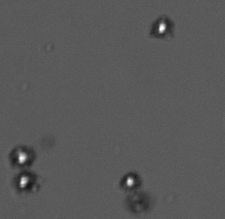Dead Cell: (128, 194, 148, 212)
Living Cell: (11, 147, 35, 166), (152, 17, 172, 36), (121, 173, 141, 190), (16, 172, 34, 190)
